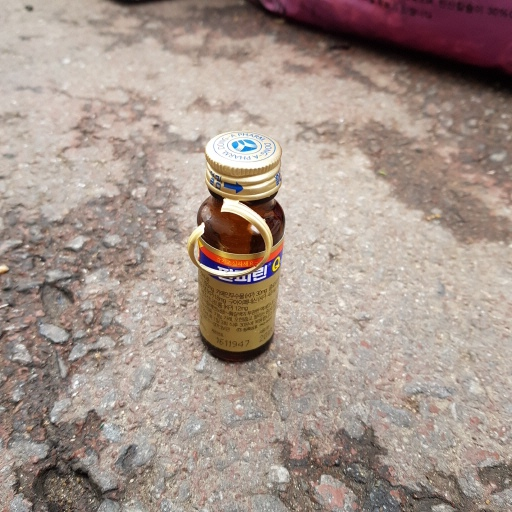Glass_3: (178, 133, 294, 365)
